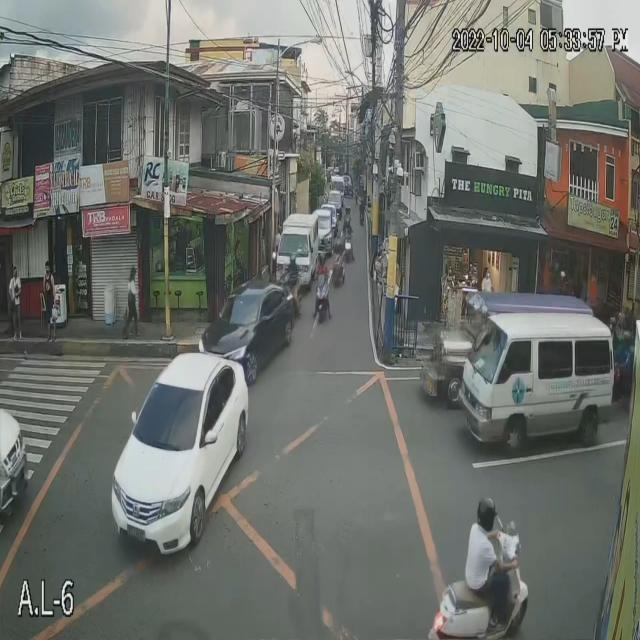half: (477, 496, 497, 530)
